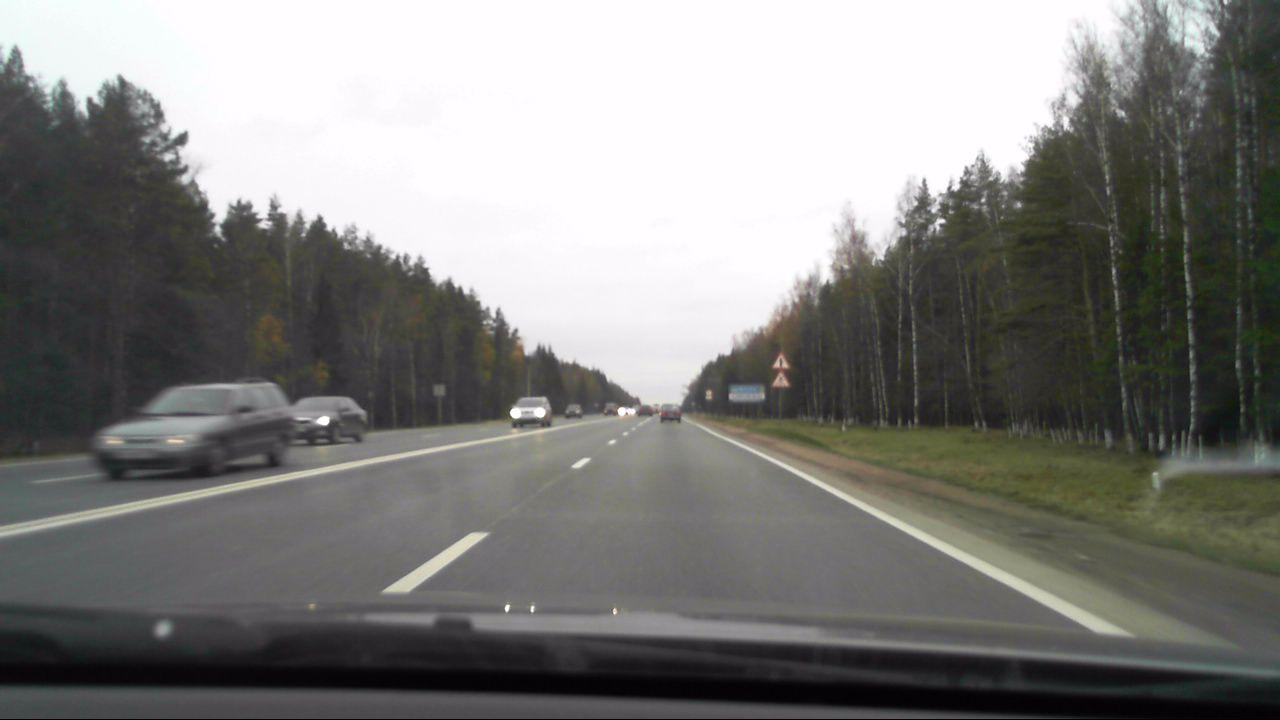1_22: (773, 371, 790, 389)
2_3_2: (771, 352, 790, 370)
